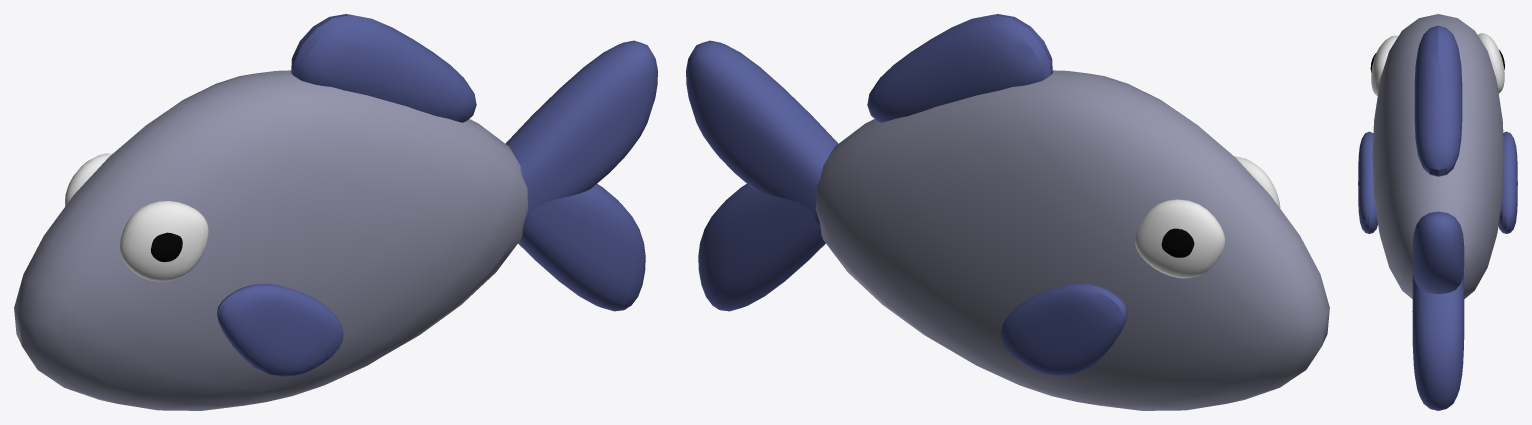
File: Fish.fbx
3 renders of one model, left to right at view 1: azimuth 30°, elevation 25°; view 2: azimuth 150°, elevation 25°; view 3: azimuth 270°, elevation 25°, orthographic. The views are drawn at different scales.
Visible parts, largest first — view 1: Cube; view 2: Cube; view 3: Cube.
Boxes of the visible parts, x1=… form: Cube: x1=14, y1=14, x2=657, y2=410; Cube: x1=686, y1=14, x2=1329, y2=410; Cube: x1=1358, y1=14, x2=1517, y2=410.
Size of the model in its own units: 194 by 105 by 55.04.
